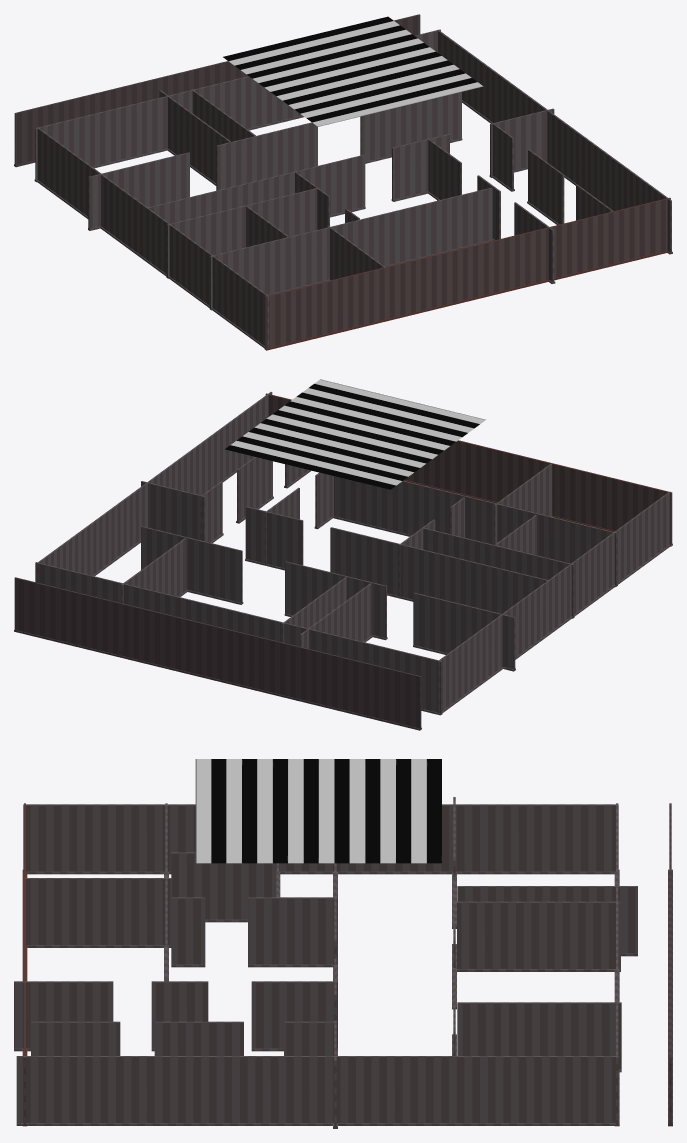
Rendered from wall2.glb.
3 renders of one model, top to bottom at view 1: azimuth 30°, elevation 25°; view 2: azimuth 150°, elevation 25°; view 3: azimuth 270°, elevation 25°, orthographic. The views are drawn at different scales.
Parts seen in each view (by area): view 1: Cube.001, Plane, Cube.014, Cube.004, Cube.002, Cube.003, Cube.027, Cube.006, Cube.016, Cube.007, Cube.019, Cube.018 (+13 smaller); view 2: Cube.027, Plane, Cube.004, Cube.001, Cube.014, Cube.006, Cube.002, Cube.003, Cube.019, Cube.018, Cube.016, Cube.007 (+11 smaller); view 3: Cube.003, Plane, Cube.004, Cube.011, Cube.017, Cube.010, Cube.013, Cube.015, Cube.022, Cube.023, Cube.012, Cube.025 (+8 smaller).
Part boxes in pixels (bbox=[...]): Cube.001: bbox=[264, 197, 670, 350]; Plane: bbox=[223, 16, 483, 126]; Cube.014: bbox=[209, 187, 493, 310]; Cube.004: bbox=[37, 127, 269, 348]; Cube.002: bbox=[34, 29, 440, 182]; Cube.003: bbox=[438, 29, 672, 254]; Cube.027: bbox=[14, 14, 420, 167]; Cube.006: bbox=[147, 154, 365, 223]; Cube.016: bbox=[166, 188, 317, 278]; Cube.007: bbox=[216, 122, 317, 190]; Cube.019: bbox=[360, 92, 462, 163]; Cube.018: bbox=[88, 152, 189, 230]; Cube.027: bbox=[14, 577, 421, 730]; Plane: bbox=[225, 379, 485, 489]; Cube.004: bbox=[438, 491, 670, 712]; Cube.001: bbox=[265, 393, 672, 546]; Cube.014: bbox=[333, 476, 617, 586]; Cube.006: bbox=[330, 527, 548, 613]; Cube.002: bbox=[35, 562, 442, 715]; Cube.003: bbox=[36, 392, 272, 582]; Cube.019: bbox=[141, 526, 243, 604]; Cube.018: bbox=[413, 592, 515, 671]; Cube.016: bbox=[423, 528, 574, 618]; Cube.007: bbox=[284, 561, 387, 640]; Cube.003: bbox=[16, 1056, 618, 1125]; Plane: bbox=[195, 759, 441, 863]; Cube.004: bbox=[23, 804, 618, 874]; Cube.011: bbox=[457, 901, 620, 971]; Cube.017: bbox=[25, 878, 172, 947]; Cube.010: bbox=[457, 1002, 621, 1072]; Cube.013: bbox=[248, 897, 337, 967]; Cube.015: bbox=[171, 852, 276, 922]; Cube.022: bbox=[251, 981, 337, 1051]; Cube.023: bbox=[14, 981, 113, 1051]; Cube.012: bbox=[457, 886, 637, 956]; Cube.025: bbox=[154, 1021, 243, 1055].
Bounding box in the file's own units: 5.06 × 1.68 × 5.35.
Materials: 28 (28 with a texture image).
